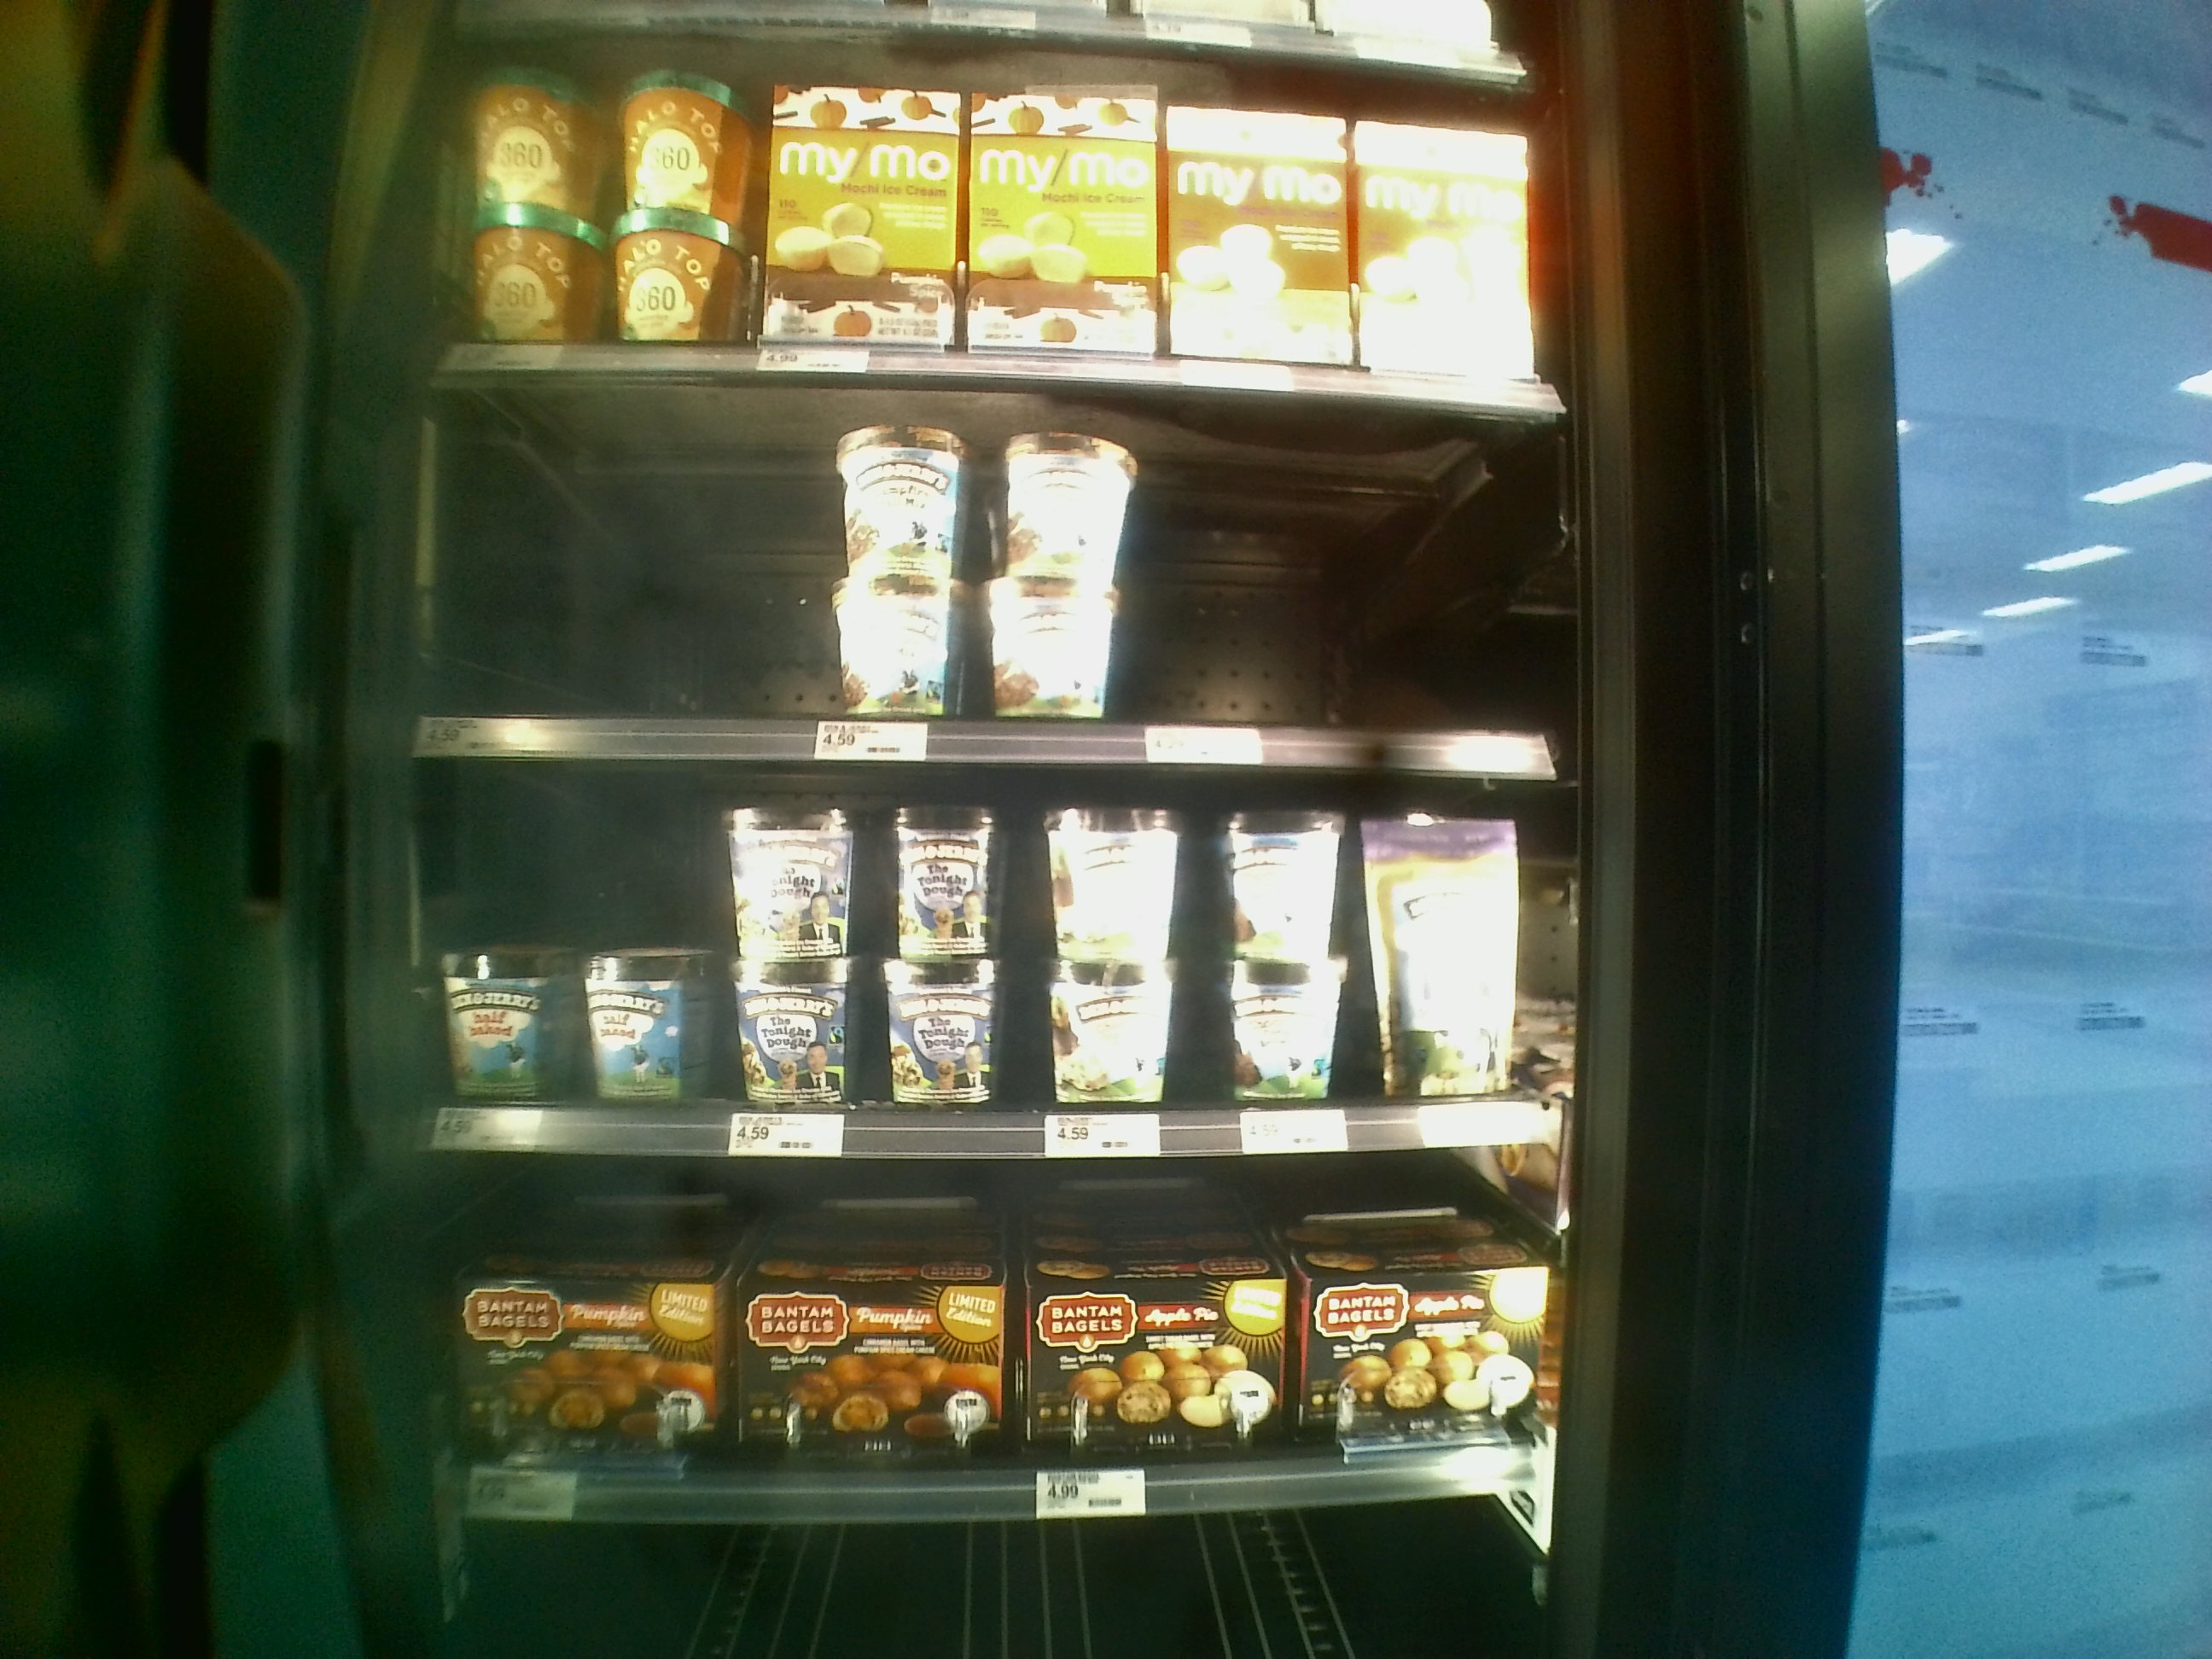shelf: (423, 342, 1559, 779), (409, 723, 1559, 1134), (399, 1122, 1545, 1492)
